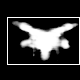plane: (8, 18, 76, 65)
